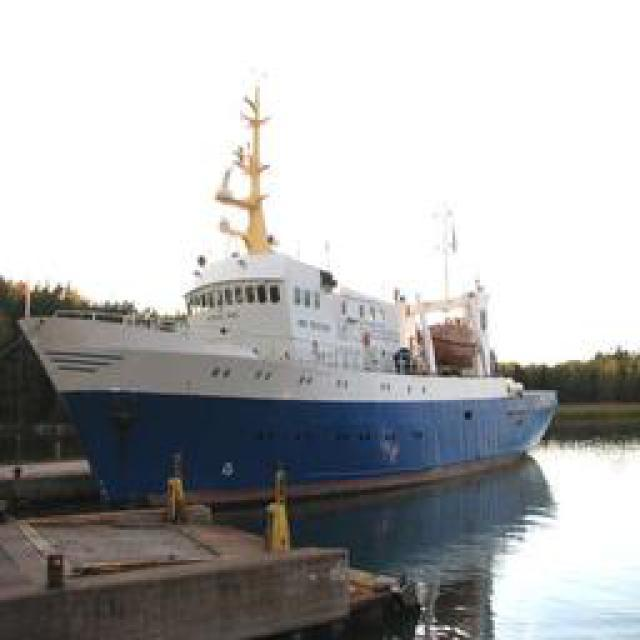Ship: (18, 143, 556, 501)
